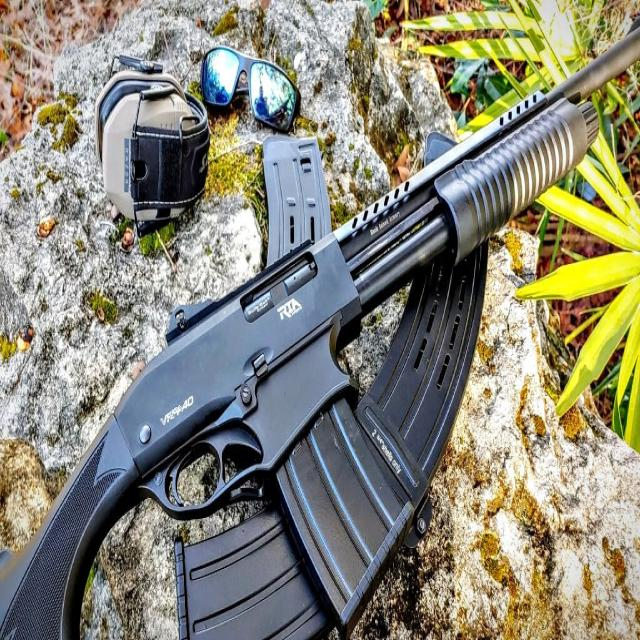ShotGun: (0, 17, 639, 640)
